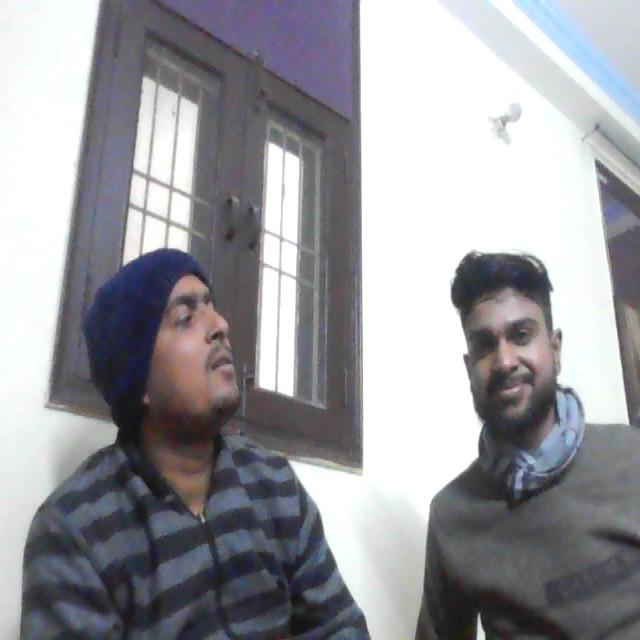real: (127, 188, 257, 435), (460, 240, 563, 435)
